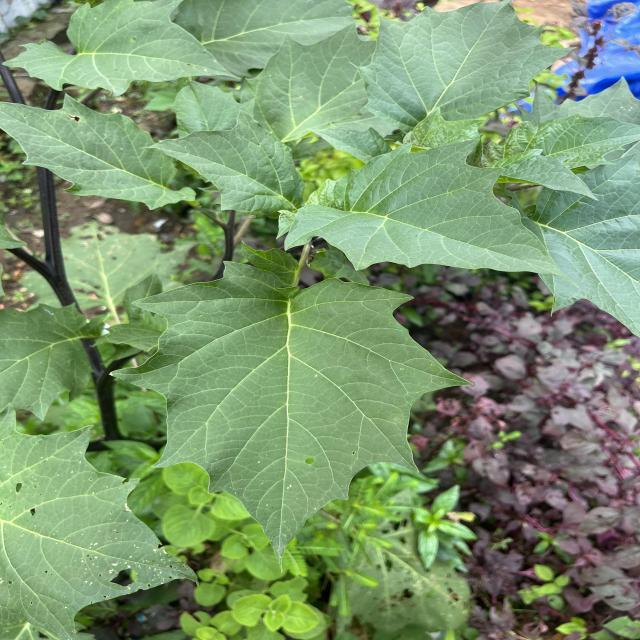Datura metal linn: (108, 258, 478, 576), (282, 137, 582, 290), (346, 0, 580, 122), (0, 91, 200, 212), (0, 0, 243, 97), (138, 108, 306, 220)
